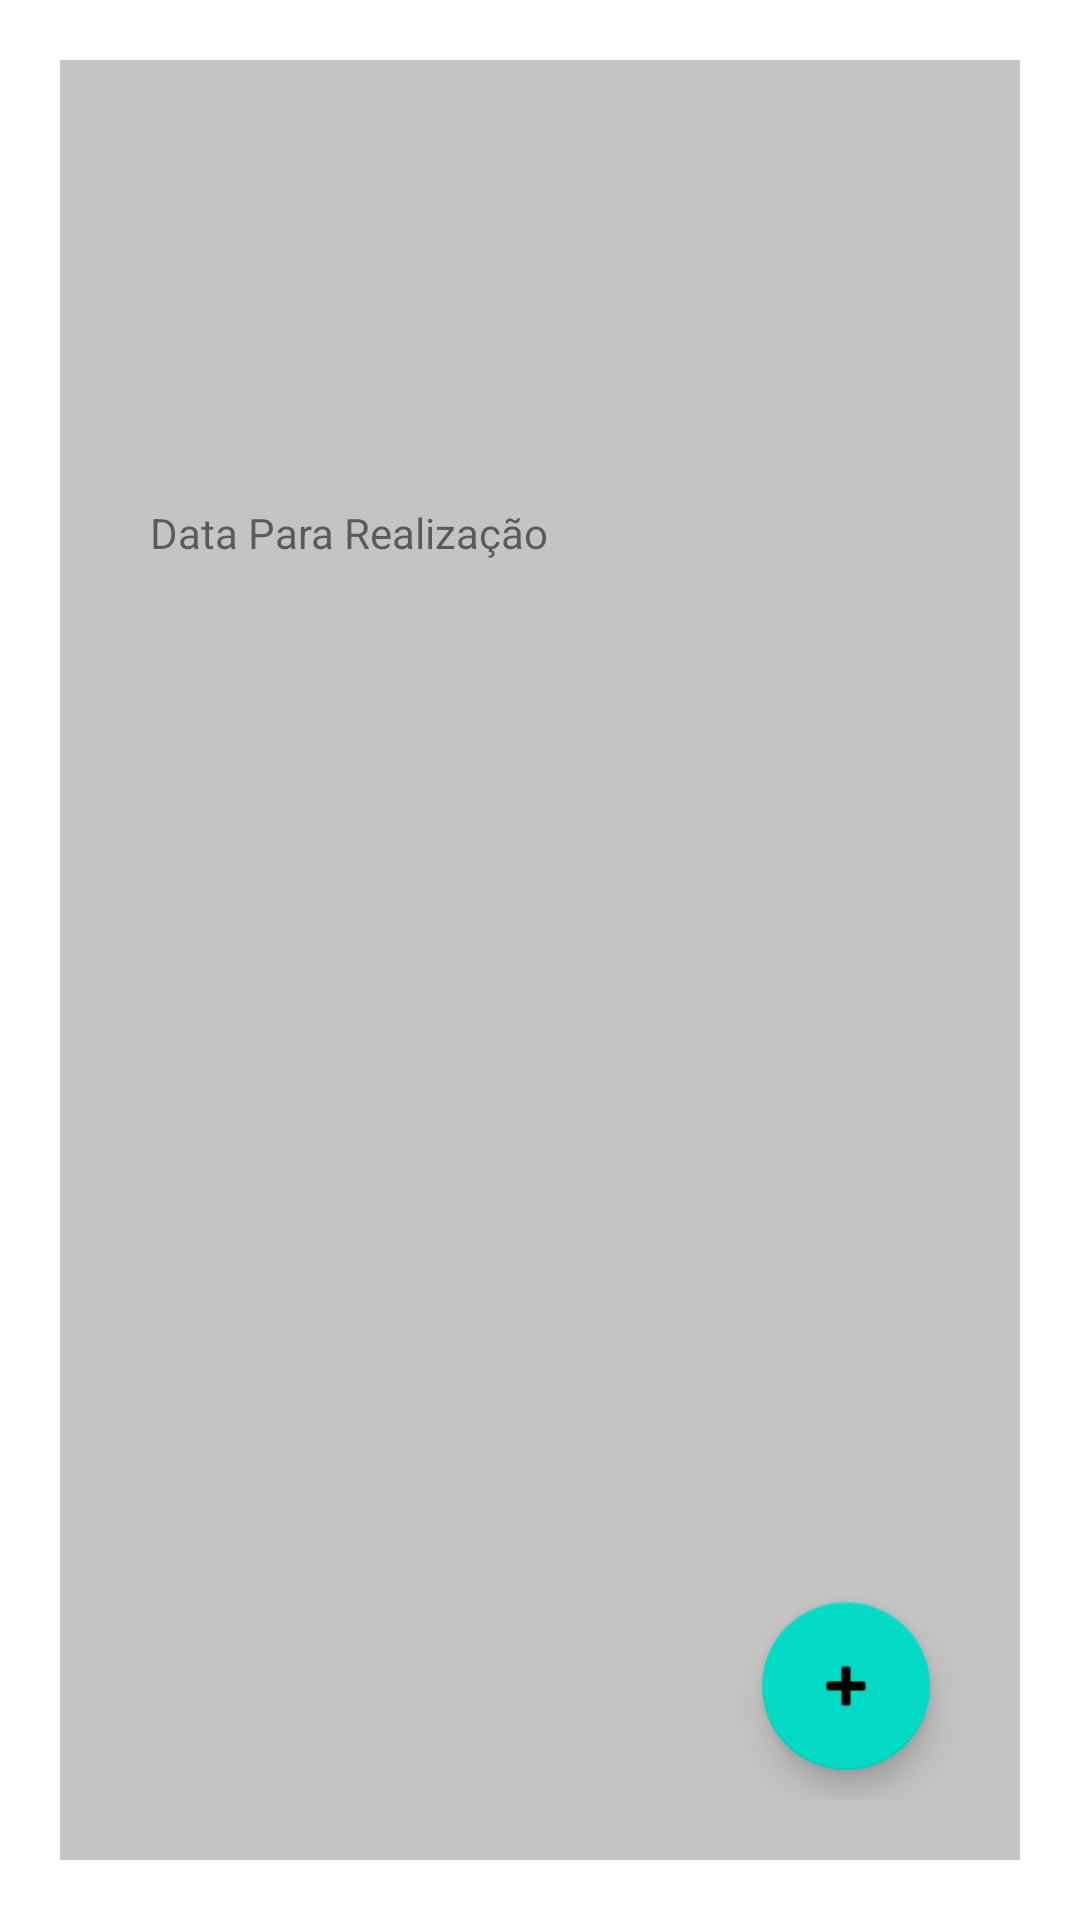

Locate icon controls on the screen. Image size 1080 × 1920, boxes as {"x1": x1, "y1": y1, "x2": x2, "y2": y2}.
add: {"x1": 762, "y1": 1602, "x2": 930, "y2": 1770}
